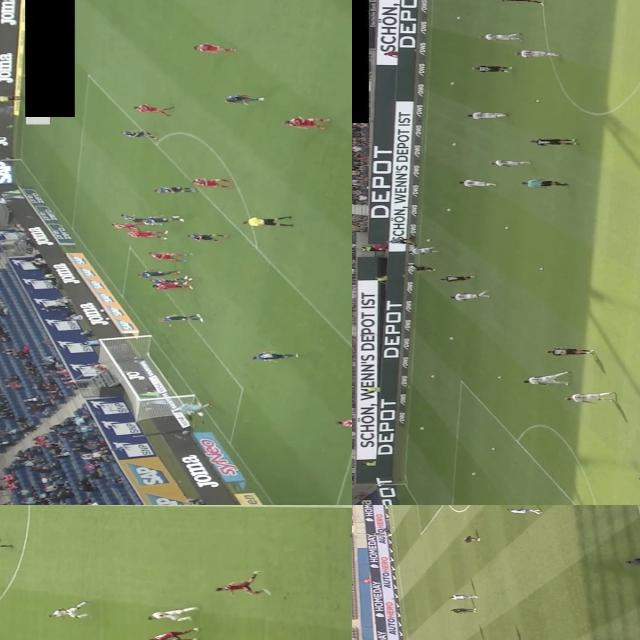ball: (194, 409, 208, 416), (446, 336, 455, 340), (454, 15, 462, 19), (536, 266, 542, 270), (444, 208, 452, 211), (534, 98, 540, 102), (429, 374, 435, 377), (502, 225, 508, 228), (425, 238, 431, 241), (471, 472, 476, 475), (490, 446, 494, 449), (494, 376, 500, 378), (451, 142, 456, 144), (419, 426, 423, 428), (450, 80, 454, 82)
player: (212, 572, 266, 592), (147, 623, 201, 640), (146, 602, 197, 620), (278, 115, 332, 129), (524, 370, 570, 386), (158, 310, 205, 324), (49, 602, 89, 618), (132, 266, 182, 278), (567, 390, 613, 402), (171, 401, 210, 415), (130, 104, 174, 115), (545, 346, 591, 356), (481, 32, 523, 42), (146, 249, 184, 260), (124, 229, 164, 239), (146, 213, 182, 224), (220, 95, 264, 104), (153, 280, 192, 290), (192, 176, 230, 186), (186, 230, 222, 240), (118, 213, 154, 223), (153, 184, 197, 192), (190, 44, 234, 52), (468, 110, 510, 118), (504, 506, 546, 514), (148, 276, 188, 284), (250, 352, 294, 359), (456, 179, 494, 187), (533, 137, 575, 144), (492, 158, 528, 166), (452, 292, 488, 300), (513, 49, 554, 56), (110, 221, 142, 229), (335, 414, 352, 429), (472, 66, 513, 72), (119, 132, 153, 138), (407, 245, 435, 252), (441, 274, 472, 280), (450, 607, 480, 613), (447, 593, 477, 599), (462, 534, 484, 542), (410, 264, 436, 268), (502, 0, 544, 2)
